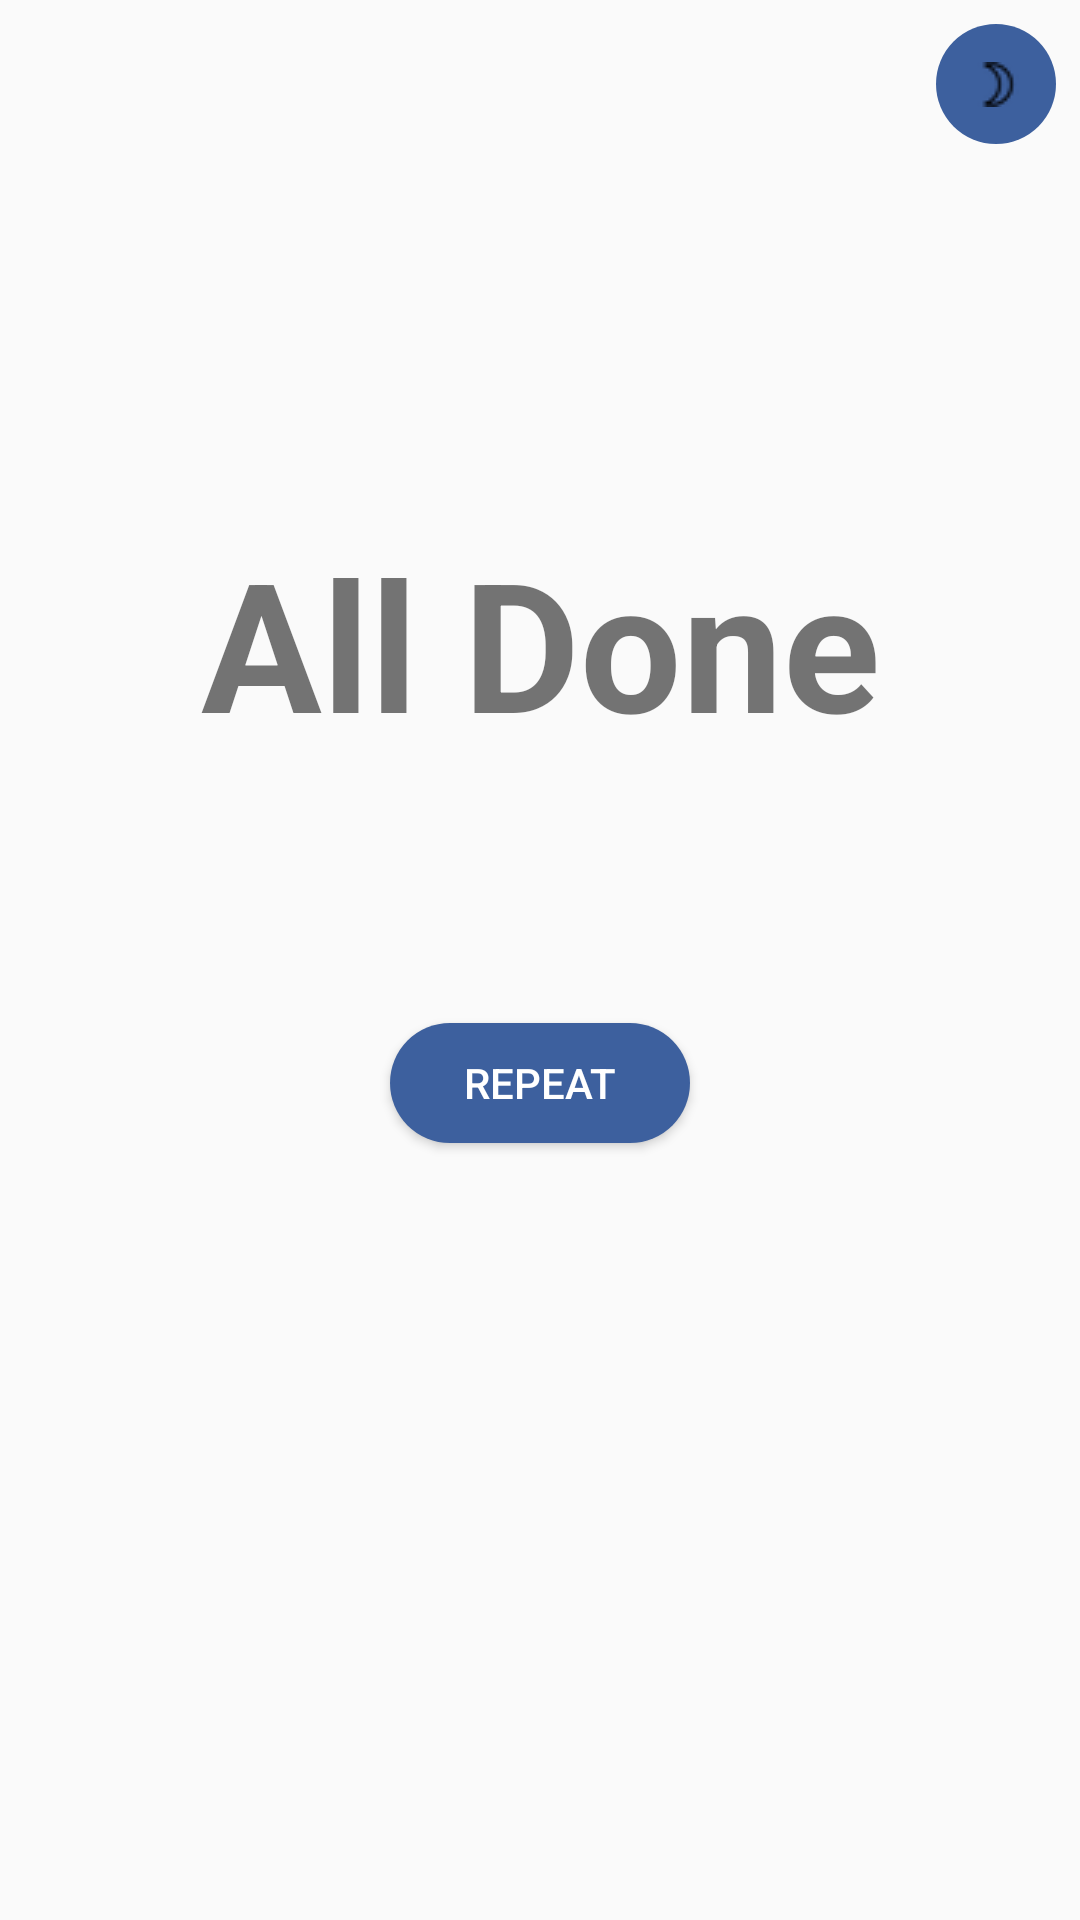

Icon click points for this 1080px×1920px phone screenshot, format (x=x, y=y):
rsz moon: (x=996, y=84)
